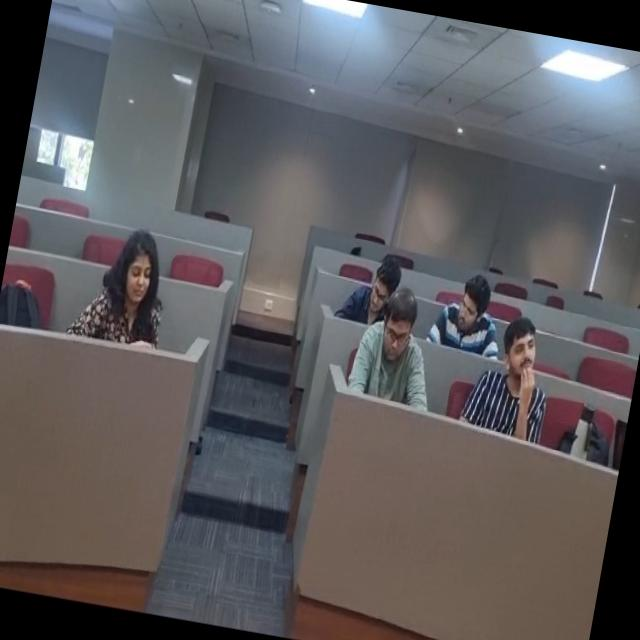cheating: (422, 254, 518, 370)
non-cheating: (82, 207, 188, 360), (470, 300, 581, 446), (356, 296, 446, 411), (334, 241, 422, 334)
